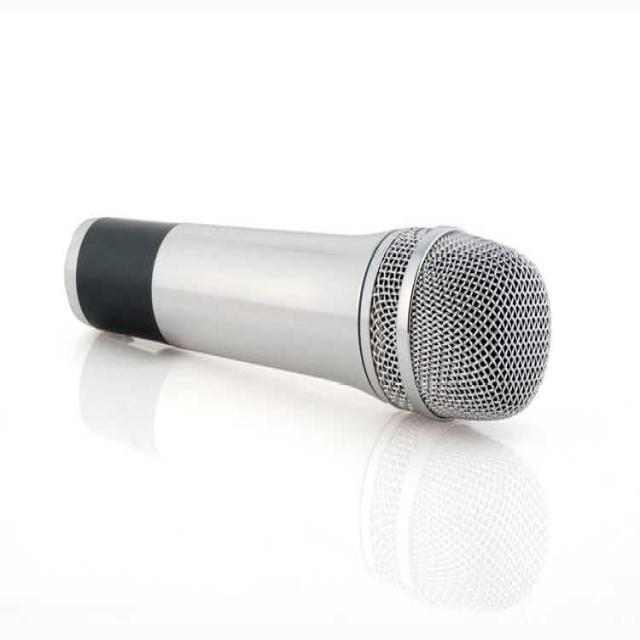microphone: (72, 201, 557, 432)
